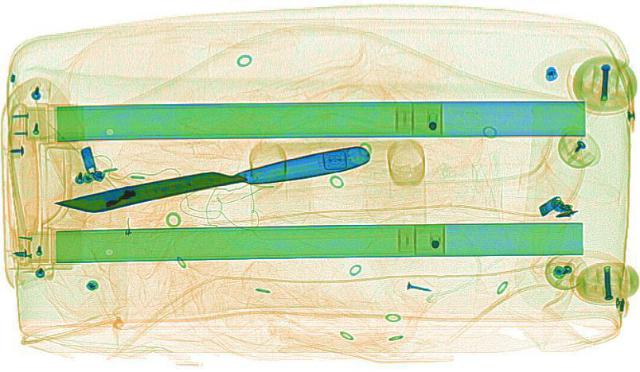Knife: (48, 143, 374, 215)
